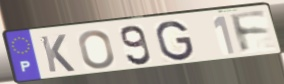1: (212, 15, 237, 55)
9: (120, 25, 153, 66)
F: (227, 9, 272, 55)
G: (154, 19, 196, 62)
K: (38, 33, 77, 74)
O: (77, 28, 117, 70)
